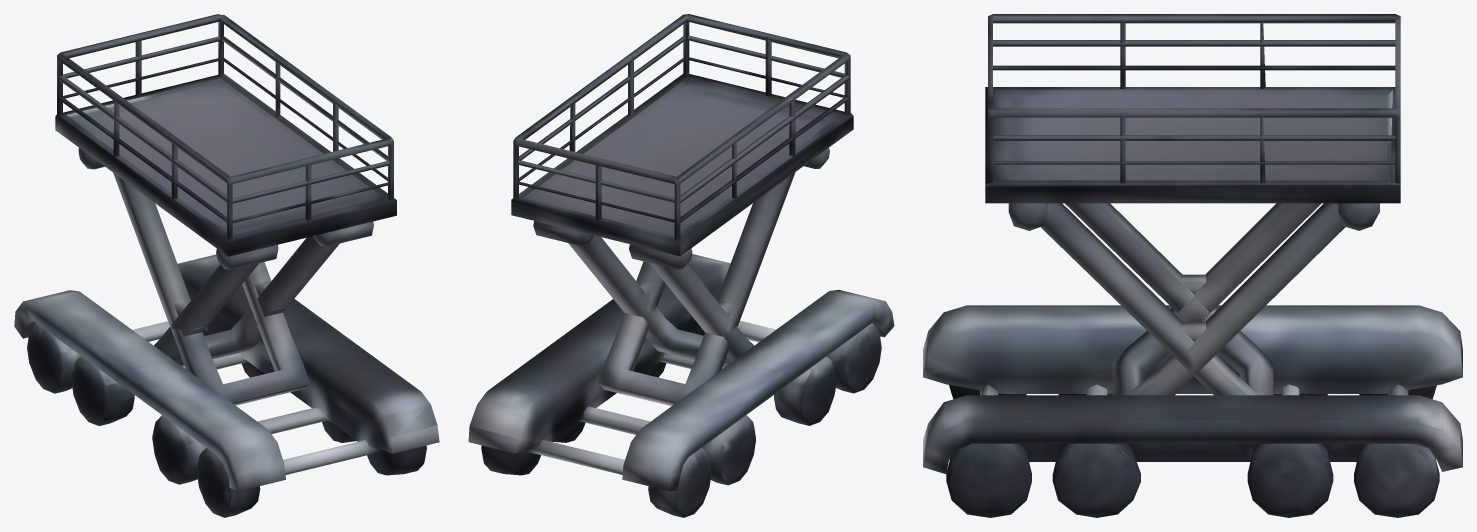
The model's file is 整備庫_17_剪式升降車.glb.
3 renders of one model, left to right at view 1: azimuth 30°, elevation 25°; view 2: azimuth 150°, elevation 25°; view 3: azimuth 270°, elevation 25°, orthographic. The views are drawn at different scales.
Parts seen in each view (by area): view 1: 17_剪式升降車; view 2: 17_剪式升降車; view 3: 17_剪式升降車.
Boxes of the visible parts, x1,y1,x2,y2 form: 17_剪式升降車: (14, 14, 439, 517); 17_剪式升降車: (468, 14, 894, 517); 17_剪式升降車: (923, 14, 1462, 517).
Bounding box in the file's own units: 0.0532 × 0.0825 × 0.1016.
1 material, 1 textured.
